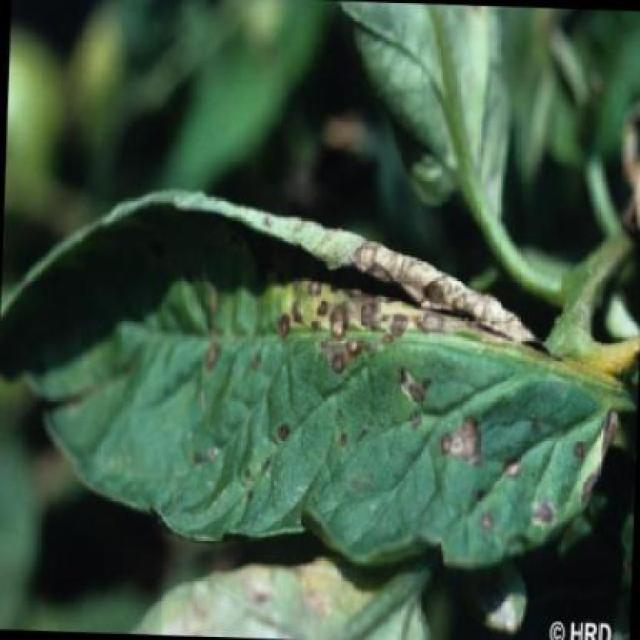Septoria leaf spot: (1, 173, 626, 584)
